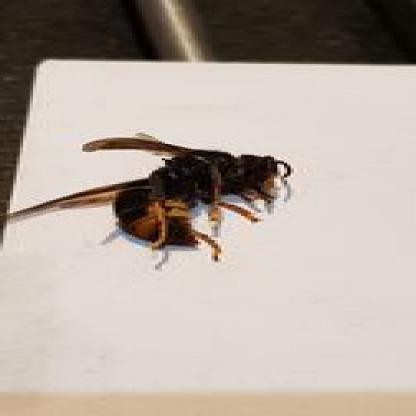Asian Hornet: (1, 130, 304, 270)
